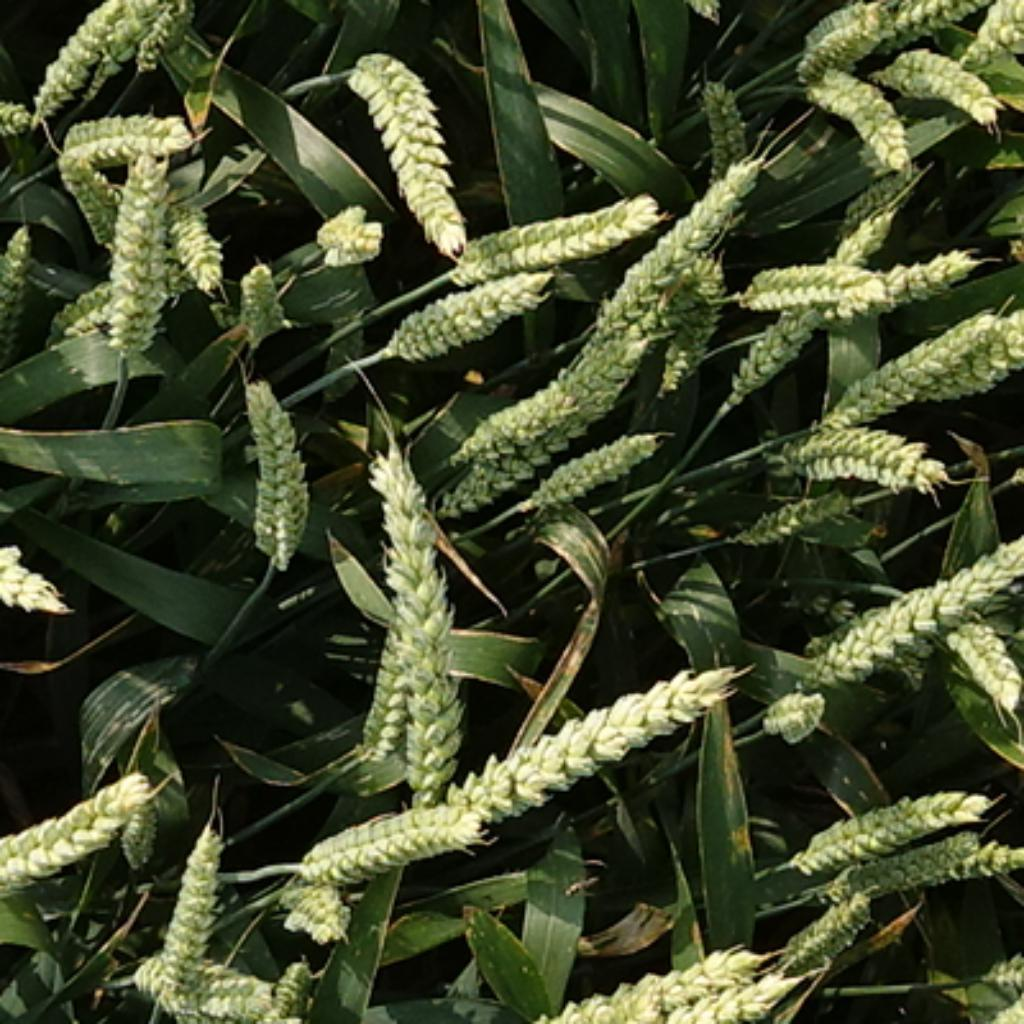0-0: (432, 647, 732, 826), (343, 448, 476, 816), (432, 309, 660, 517), (734, 189, 913, 396), (583, 148, 762, 355), (801, 545, 1008, 691), (335, 30, 471, 235), (483, 939, 791, 1024), (783, 775, 998, 880), (640, 240, 765, 419), (0, 766, 147, 909), (839, 308, 1024, 421), (89, 153, 186, 358), (291, 783, 488, 880), (450, 189, 670, 271), (381, 261, 560, 358), (230, 363, 314, 565), (348, 588, 432, 783), (138, 942, 317, 1024), (23, 5, 135, 135), (762, 409, 957, 483), (829, 821, 1016, 893), (148, 819, 230, 975), (524, 430, 660, 517), (803, 56, 911, 163), (616, 970, 819, 1024), (826, 240, 977, 309), (739, 248, 896, 312), (775, 880, 883, 970), (48, 268, 156, 358), (734, 476, 867, 545), (826, 161, 944, 235), (53, 99, 189, 161), (949, 609, 1024, 721), (880, 40, 998, 110), (788, 2, 919, 61), (0, 517, 74, 611), (688, 69, 752, 163), (0, 232, 40, 373), (56, 145, 115, 238), (870, 2, 988, 48), (273, 865, 350, 934), (307, 194, 384, 261), (166, 192, 222, 284), (130, 2, 204, 71), (230, 250, 289, 332), (755, 675, 826, 734), (514, 998, 675, 1024), (114, 805, 155, 897), (955, 946, 1024, 999), (266, 952, 317, 1016), (975, 2, 1024, 51), (1, 92, 34, 144)
